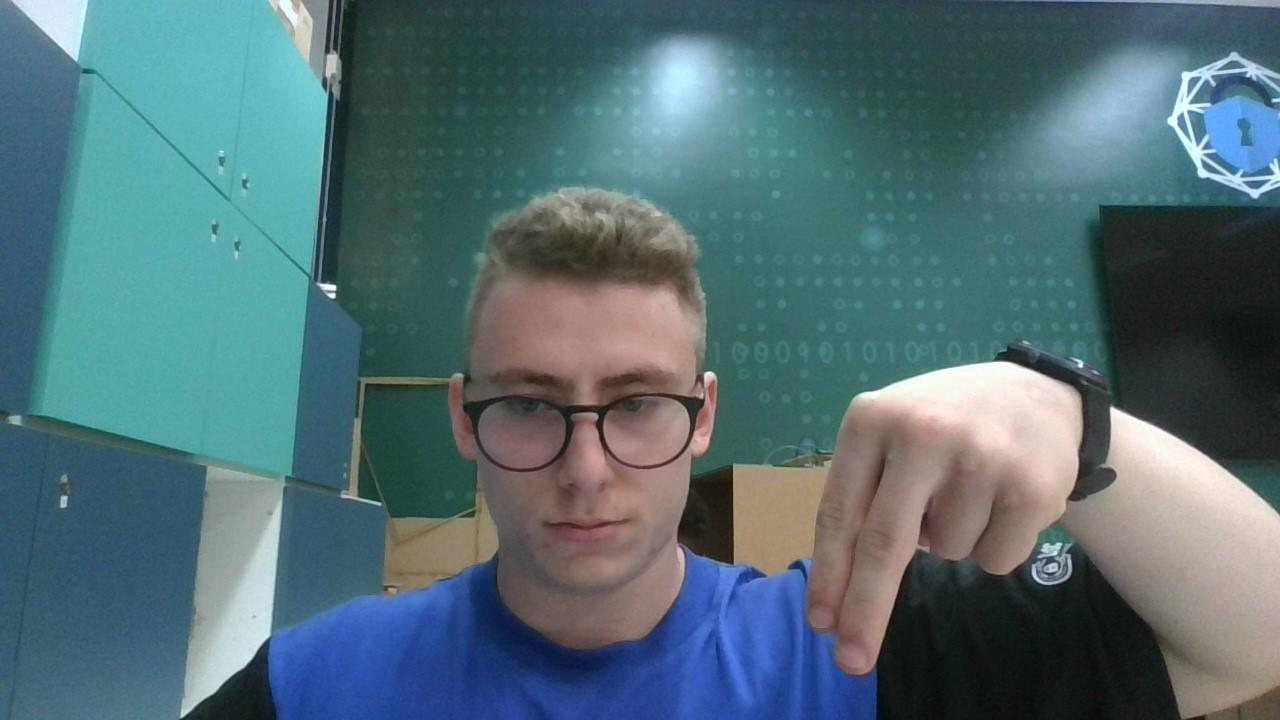N: (800, 354, 1070, 684)
